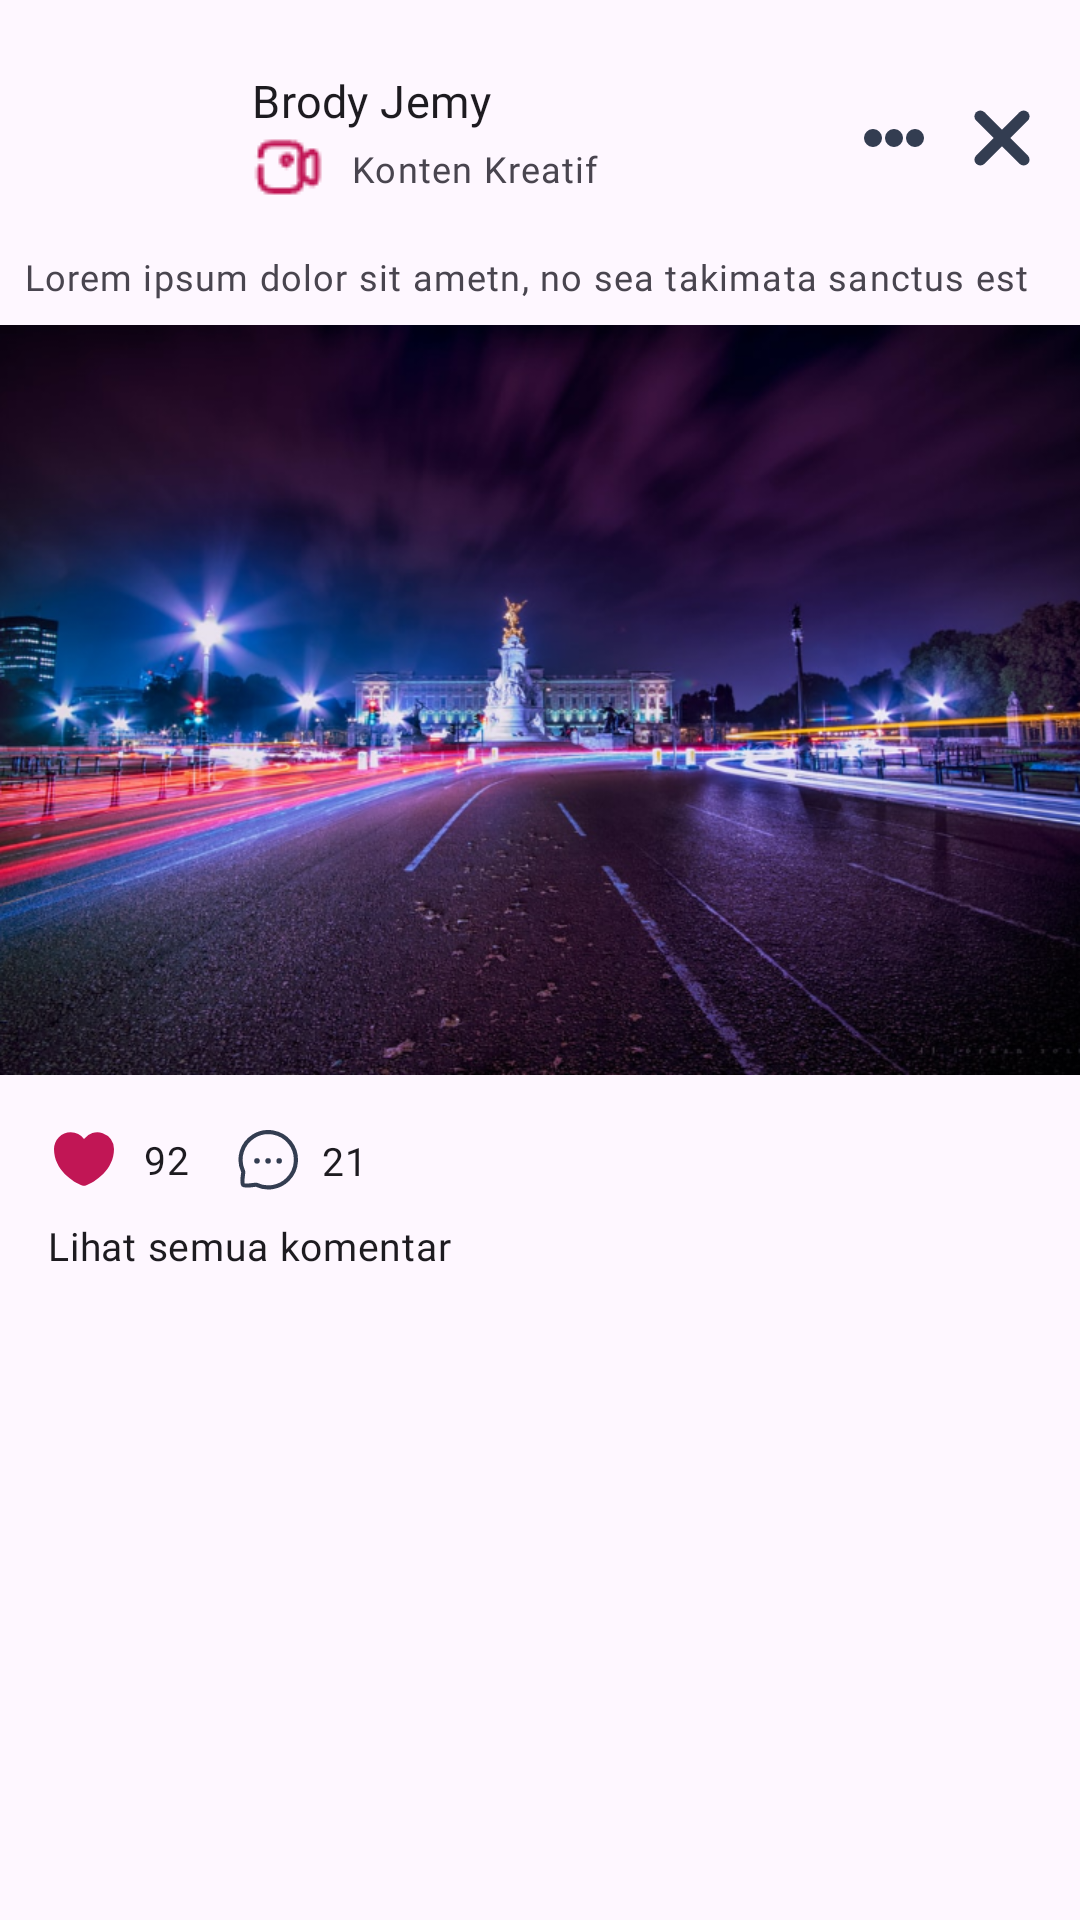

Named icons in this screenshot (1080×1920) and their centers, (x=x, y=y):
cancel: (x=1002, y=138)
comment: (x=268, y=1160)
love: (x=84, y=1159)
more: (x=894, y=138)
